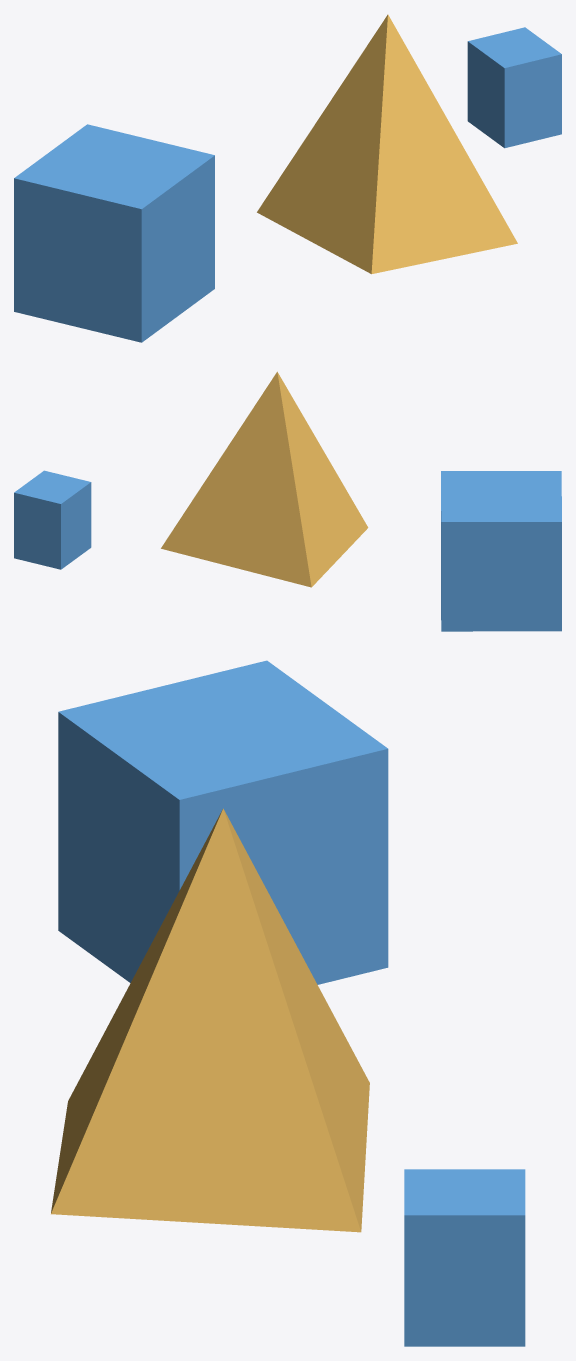
Rendered from faceted_fixture.gltf.
The picture shows the model from 3 angles, top to bottom: view 1: azimuth 30°, elevation 25°; view 2: azimuth 150°, elevation 25°; view 3: azimuth 270°, elevation 25°; orthographic projection. The views are drawn at different scales.
Visible parts, largest first — view 1: Blue Faceted Cube, Amber Offset Pyramid, Smaller Cube / Reuse; view 2: Amber Offset Pyramid, Blue Faceted Cube, Smaller Cube / Reuse; view 3: Amber Offset Pyramid, Blue Faceted Cube, Smaller Cube / Reuse.
Part boxes in pixels (x1,y1,x2,y2): Blue Faceted Cube: (14, 124, 214, 342); Amber Offset Pyramid: (257, 14, 517, 274); Smaller Cube / Reuse: (467, 27, 561, 148); Amber Offset Pyramid: (161, 371, 368, 587); Blue Faceted Cube: (441, 471, 561, 631); Smaller Cube / Reuse: (14, 470, 91, 569); Amber Offset Pyramid: (51, 808, 369, 1232); Blue Faceted Cube: (58, 660, 388, 984); Smaller Cube / Reuse: (404, 1169, 525, 1346).
Size of the model in its own units: 6.47 by 2.3 by 2.75.
